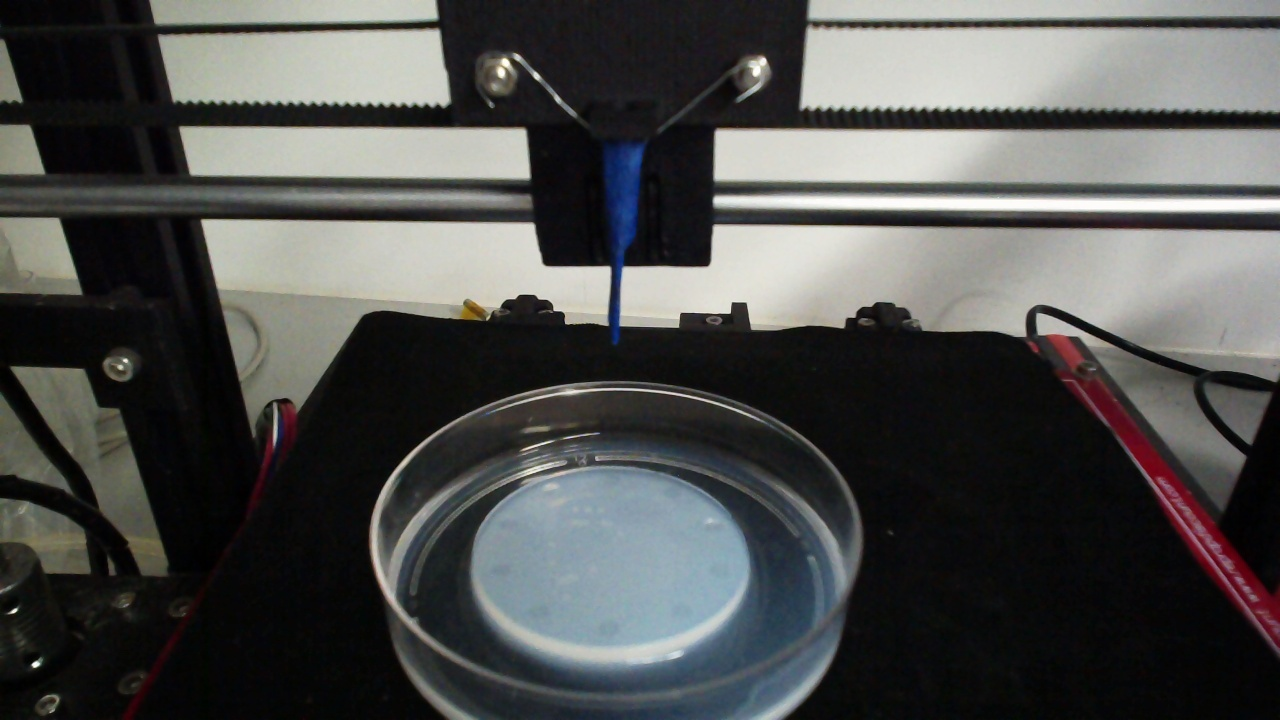groove: (706, 561, 733, 580), (670, 602, 695, 621), (596, 621, 620, 640), (488, 562, 514, 578), (528, 601, 551, 619), (539, 481, 560, 497), (703, 518, 724, 534), (498, 515, 520, 530), (662, 484, 683, 499), (601, 473, 623, 487)
needle: (607, 141, 644, 344)
